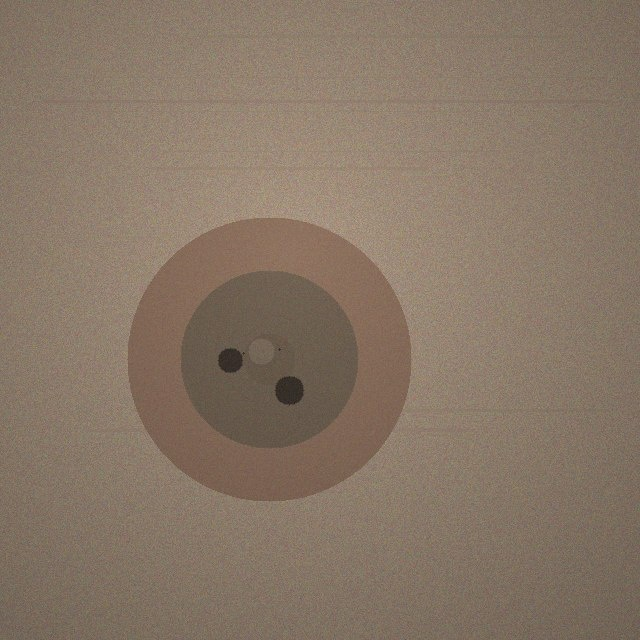shrinkage: (127, 217, 411, 501)
